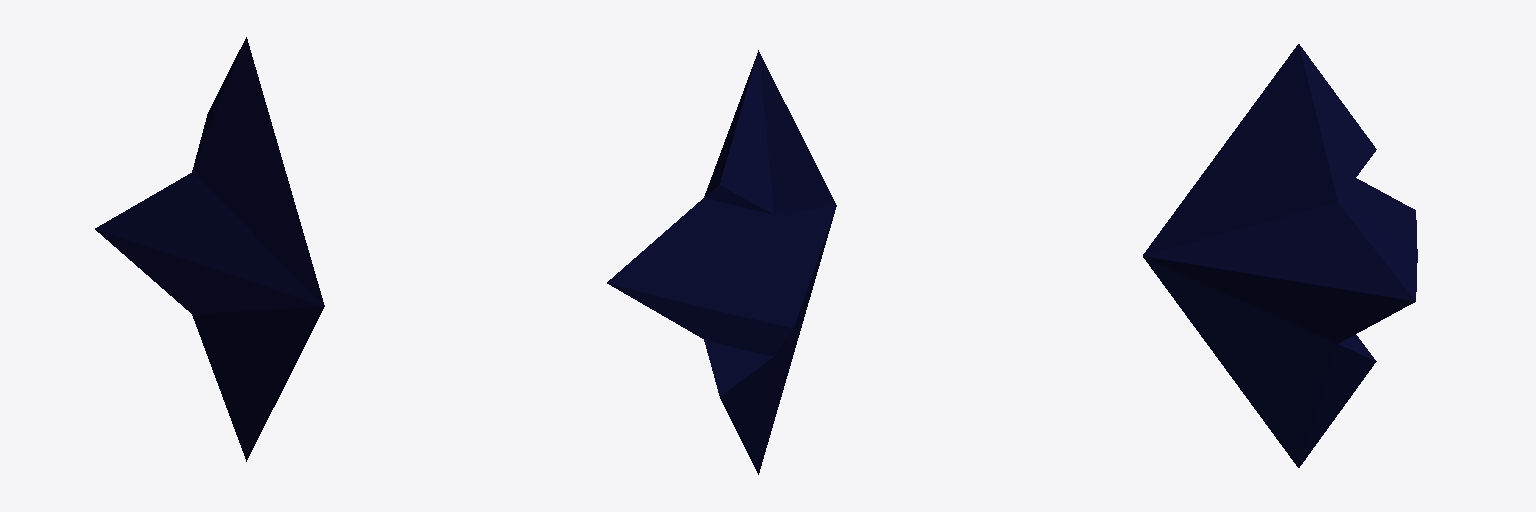
File: Sapphire.obj
3 views of the same model, side by side, from view 1: azimuth 30°, elevation 25°; view 2: azimuth 150°, elevation 25°; view 3: azimuth 270°, elevation 25° (orthographic).
Parts seen in each view (by area): view 1: sapphire polySurface2; view 2: sapphire polySurface2; view 3: sapphire polySurface2.
Part boxes in pixels (left/top/right/bottom): sapphire polySurface2: left=95, top=37, right=324, bottom=461; sapphire polySurface2: left=607, top=50, right=836, bottom=474; sapphire polySurface2: left=1143, top=44, right=1417, bottom=467.
Bounding box in the file's own units: 5.52 × 12 × 7.04.